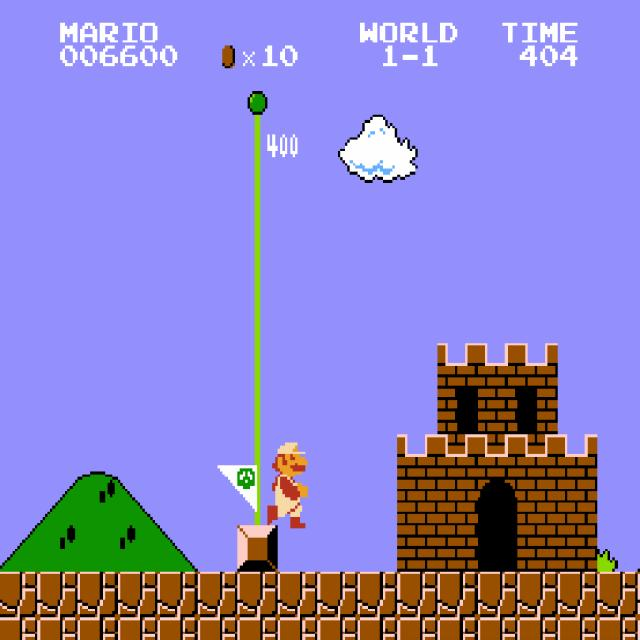brick_block: (517, 526, 558, 571)
goal_pole: (237, 114, 278, 160), (237, 160, 278, 206), (237, 297, 278, 343), (237, 434, 278, 480), (237, 480, 278, 526), (237, 69, 278, 114), (237, 206, 278, 251), (237, 252, 278, 297), (237, 343, 278, 388), (237, 389, 278, 434)
hard_block: (237, 526, 278, 571)
undestructible_block: (37, 572, 78, 617), (77, 572, 118, 617), (117, 572, 158, 617), (157, 572, 198, 617), (197, 572, 238, 617), (237, 572, 278, 617), (277, 572, 318, 617), (317, 572, 358, 617), (357, 572, 398, 617), (397, 572, 438, 617), (437, 572, 478, 617), (477, 572, 518, 617), (517, 572, 558, 617), (557, 572, 598, 617), (597, 572, 638, 617), (0, 572, 37, 617), (37, 617, 78, 640), (77, 617, 118, 640), (117, 617, 158, 640), (157, 617, 198, 640), (197, 617, 238, 640), (237, 617, 278, 640), (277, 617, 318, 640), (317, 617, 358, 640), (357, 617, 398, 640), (397, 617, 438, 640), (437, 617, 478, 640), (477, 617, 518, 640), (517, 617, 558, 640), (557, 617, 598, 640), (597, 617, 638, 640), (0, 617, 37, 640), (637, 571, 640, 617), (637, 617, 640, 639)
